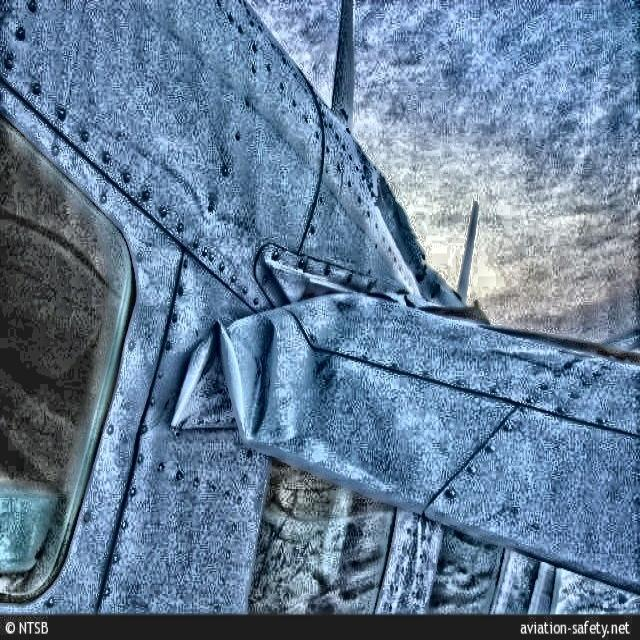dent: (174, 315, 275, 446)
